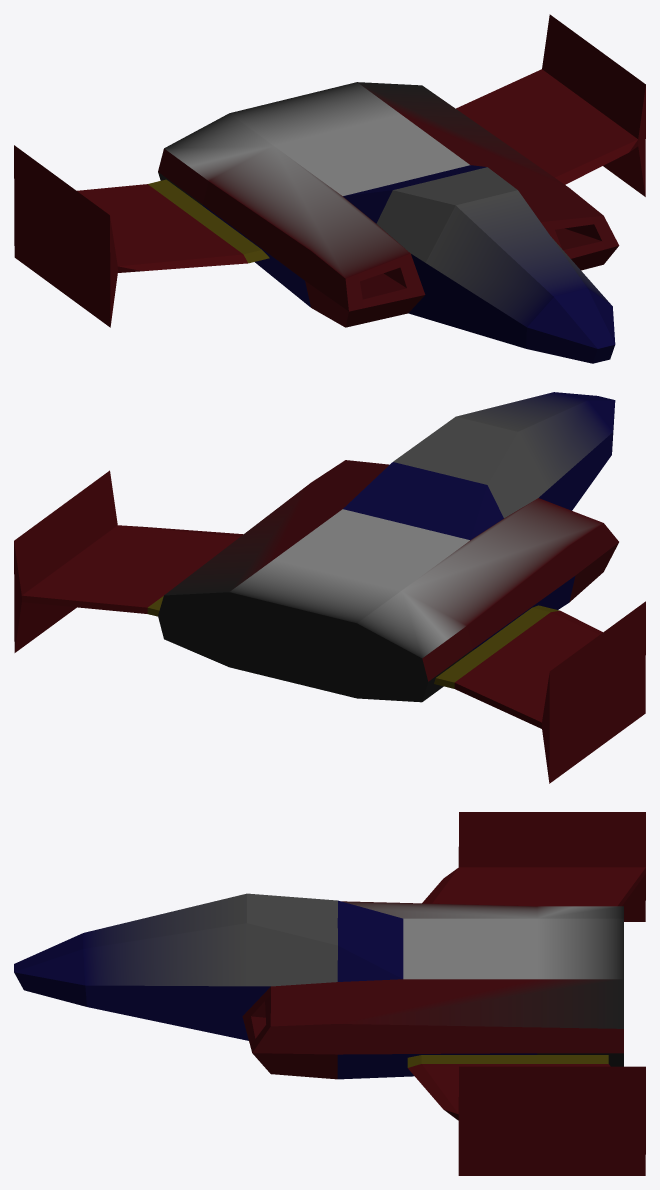
The model's file is SPACEPLANE.fbx.
3 renders of one model, top to bottom at view 1: azimuth 30°, elevation 25°; view 2: azimuth 150°, elevation 25°; view 3: azimuth 270°, elevation 25°, orthographic. The views are drawn at different scales.
Visible parts, largest first — view 1: Cube; view 2: Cube; view 3: Cube.
Boxes of the visible parts, x1,y1,x2,y2 form: Cube: (14,14,645,363); Cube: (14,392,645,783); Cube: (14,812,645,1175).
Size of the model in its own units: 423 by 109 by 444.
